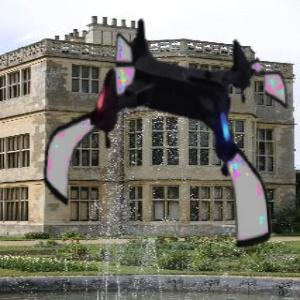drone: (35, 5, 297, 267)
